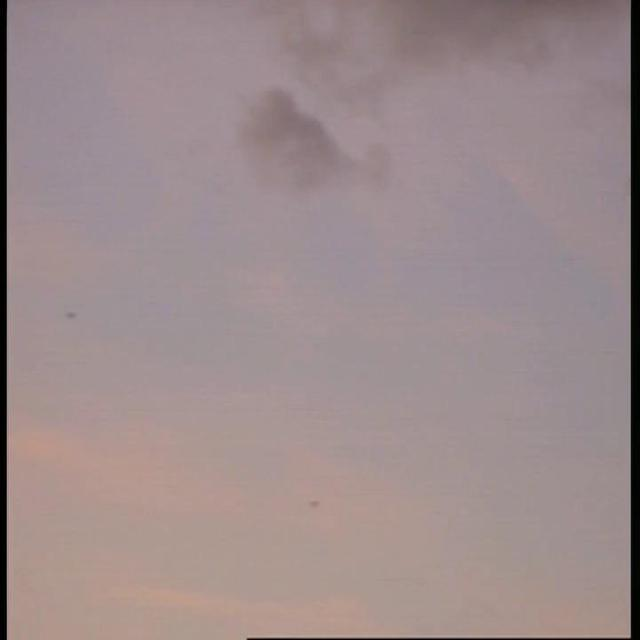drone: (304, 494, 324, 516), (62, 306, 81, 326)
